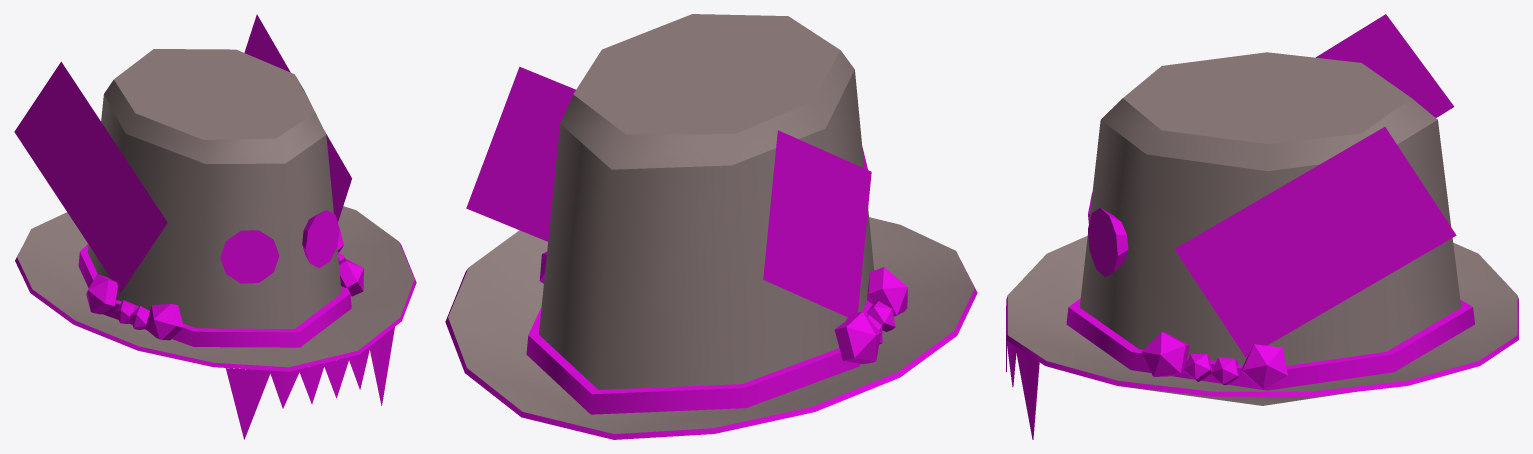
Rendered from SteveHat_Model.fbx.
The picture shows the model from 3 angles, left to right: view 1: azimuth 30°, elevation 25°; view 2: azimuth 150°, elevation 25°; view 3: azimuth 270°, elevation 25°; orthographic projection. The views are drawn at different scales.
Parts seen in each view (by area): view 1: STEVE; view 2: STEVE; view 3: STEVE.
Boxes of the visible parts, x1,y1,x2,y2 form: STEVE: [14, 14, 416, 439]; STEVE: [445, 14, 977, 439]; STEVE: [1006, 14, 1518, 439].
Bounding box in the file's own units: 388 × 314 × 445.
